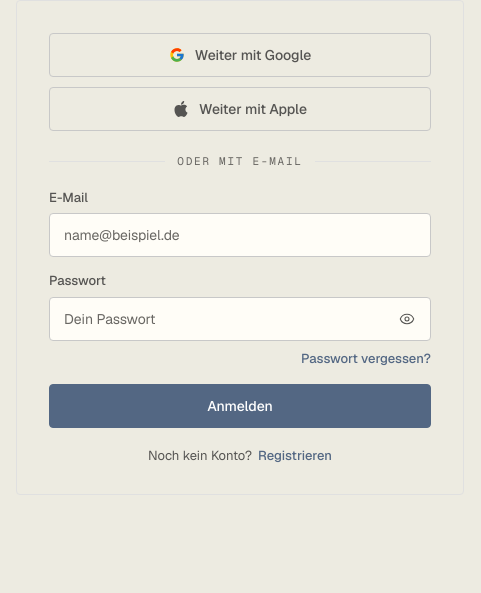
it: LoginForm › error handling › shows a timeout message for timed out requests
The image size is (481, 593).
In the field labelled "E-Mail": (240, 235) [49, 213, 431, 257], type "t@t.de"
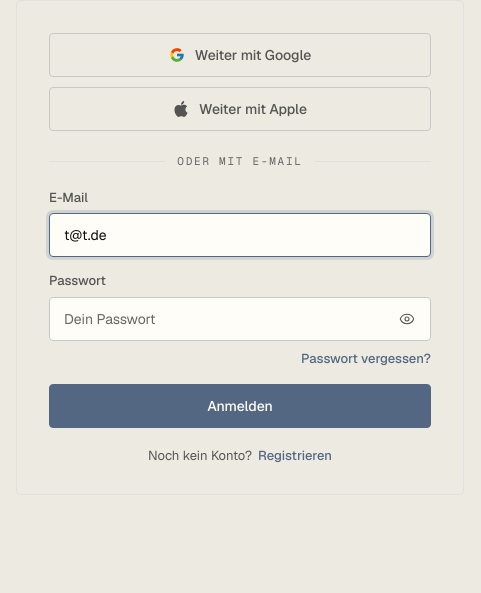
In the password field labelled "Passwort": (240, 318) [49, 296, 431, 340], type "pass"
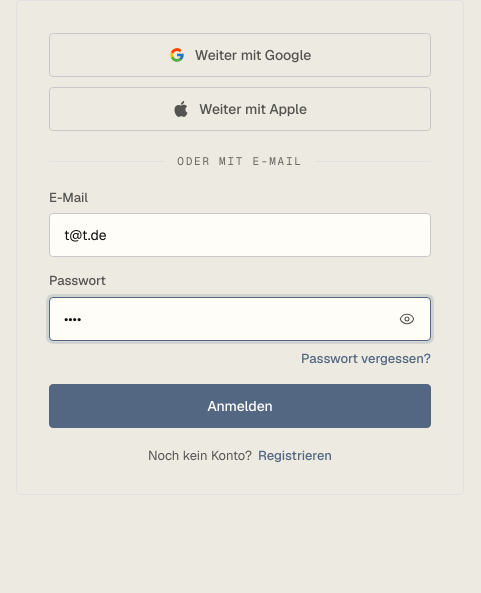
Click the button "Anmelden": (240, 406) [49, 384, 431, 428]
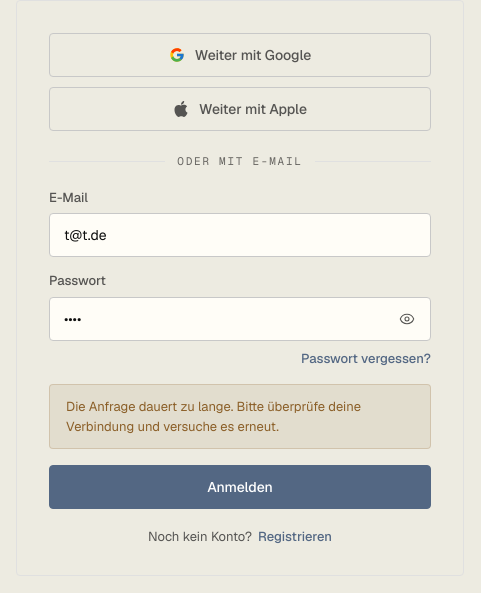
Expected: the message shows "Die Anfrage dauert zu lange", [66, 398, 361, 434]
